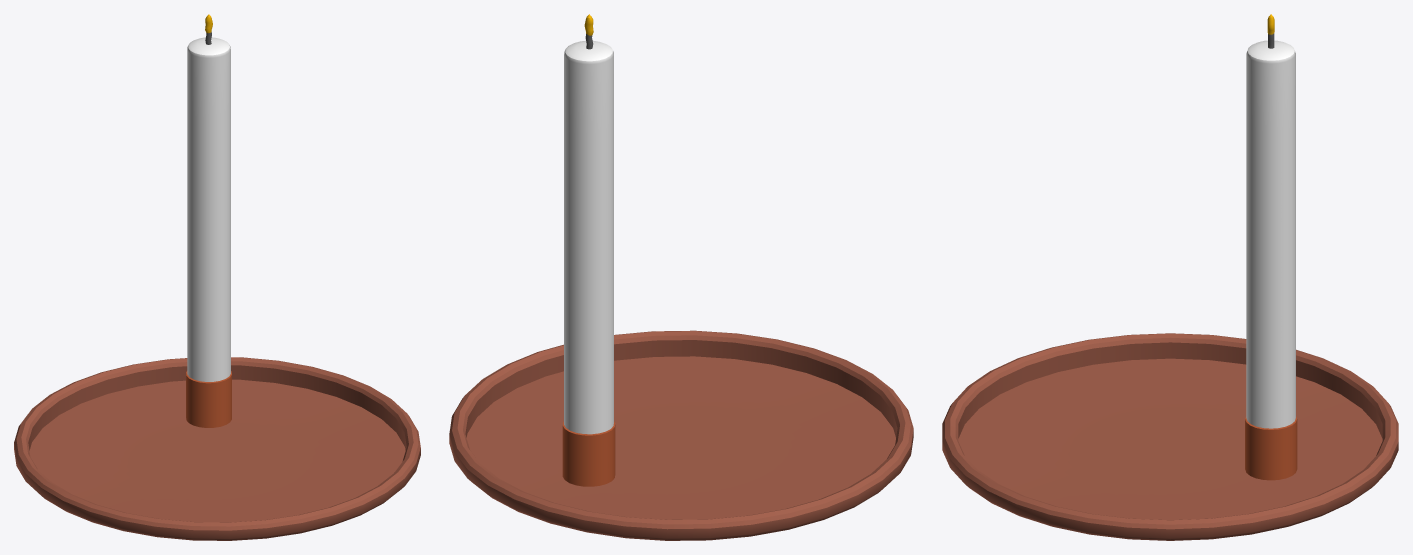
The picture shows the model from 3 angles, left to right: view 1: azimuth 30°, elevation 25°; view 2: azimuth 150°, elevation 25°; view 3: azimuth 270°, elevation 25°; orthographic projection. The views are drawn at different scales.
Visible parts, largest first — view 1: pCylinder1, polySurface1, pCylinder2; view 2: pCylinder1, polySurface1, pCylinder2; view 3: pCylinder1, polySurface1, pCylinder2.
Boxes of the visible parts, x1,y1,x2,y2 form: pCylinder1: [14, 357, 420, 540]; polySurface1: [187, 37, 230, 381]; pCylinder2: [186, 371, 231, 427]; pCylinder1: [449, 330, 913, 540]; polySurface1: [564, 40, 613, 434]; pCylinder2: [562, 422, 615, 486]; pCylinder1: [942, 333, 1398, 540]; polySurface1: [1246, 40, 1295, 428]; pCylinder2: [1245, 416, 1297, 480].
Bounding box in the file's own units: 2 × 2.2 × 1.99.
